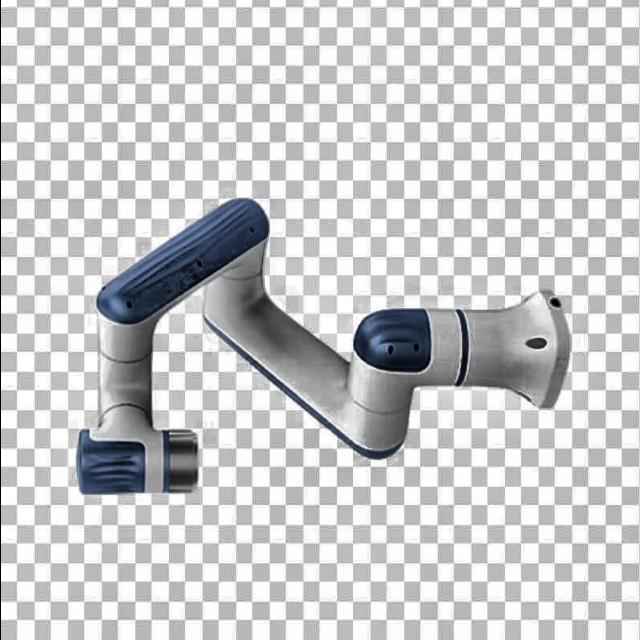robot: (74, 198, 570, 497)
